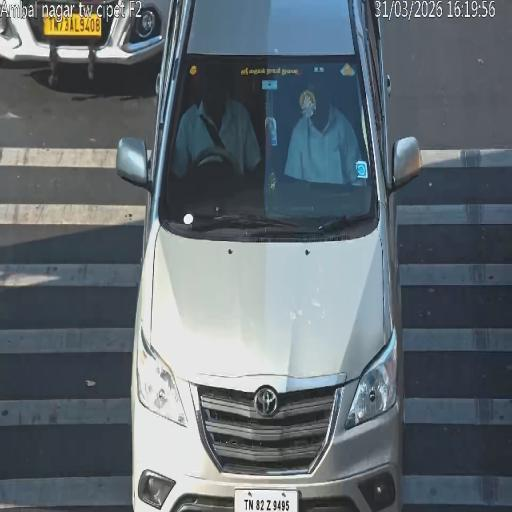person_with_seatbelt: (197, 104, 233, 172)
person_without_seatbelt: (296, 122, 347, 184)
